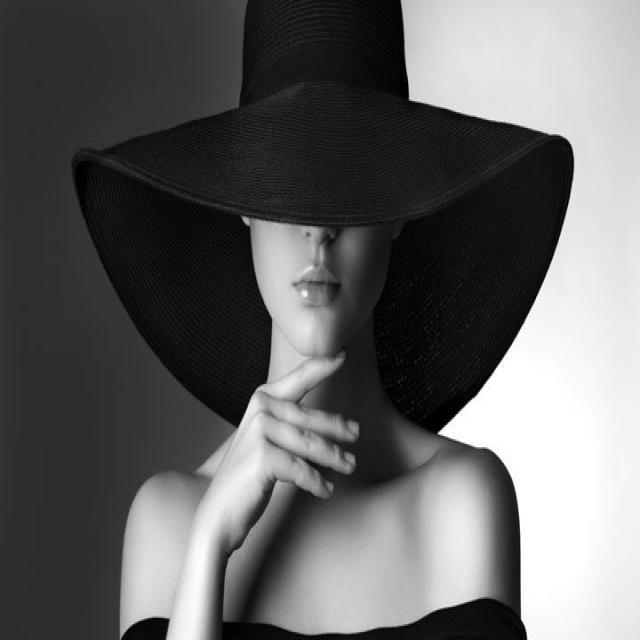hat: (72, 0, 573, 430)
